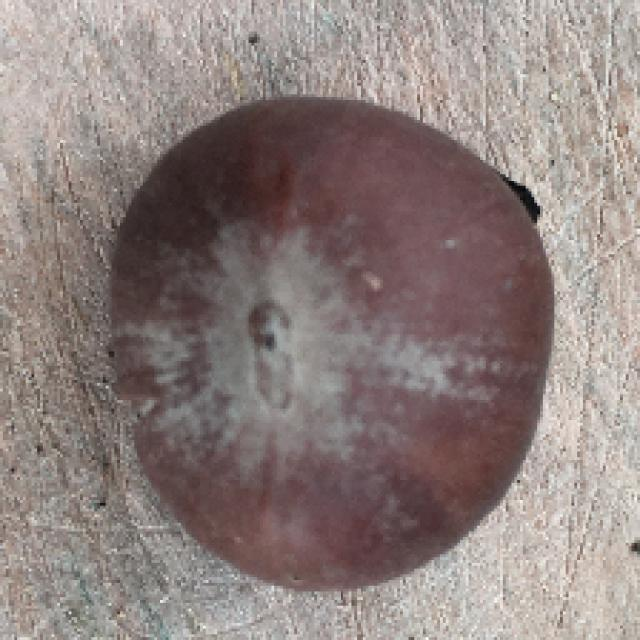DamagedHazelnut: (107, 94, 557, 594)
